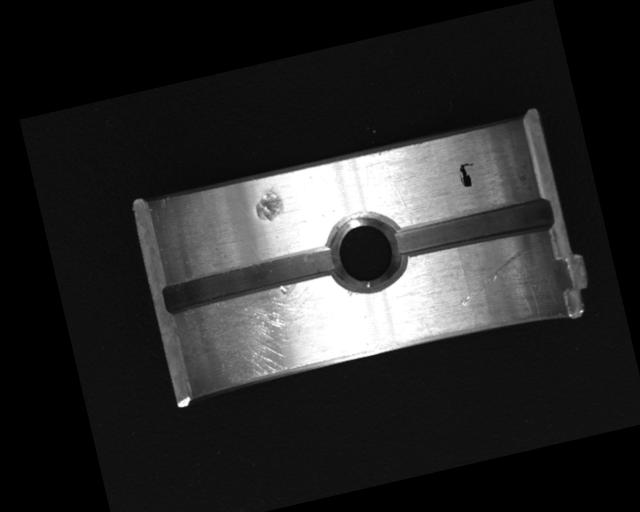blot: (455, 160, 479, 189)
bruise: (250, 183, 286, 224)
gap: (158, 243, 342, 318), (394, 194, 555, 261)
hole: (323, 205, 414, 299)
nick: (450, 246, 538, 308)
scratch: (180, 273, 357, 396)
